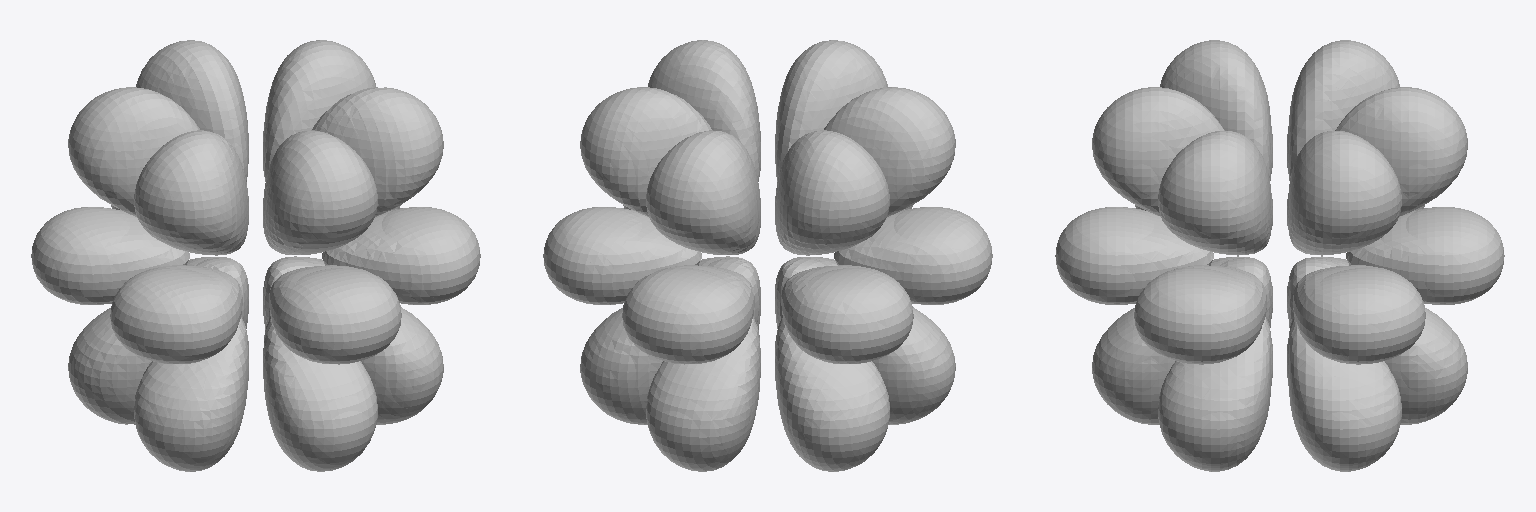
File: orb_n=6_ l=5 _m=-3.obj
The picture shows the model from 3 angles: view 1: azimuth 30°, elevation 25°; view 2: azimuth 150°, elevation 25°; view 3: azimuth 270°, elevation 25°; orthographic projection.
Parts seen in each view (by area): view 1: orb_n=6__l=5__m=-3; view 2: orb_n=6__l=5__m=-3; view 3: orb_n=6__l=5__m=-3.
Boxes of the visible parts, x1,y1,x2,y2 form: orb_n=6__l=5__m=-3: [31, 40, 480, 471]; orb_n=6__l=5__m=-3: [543, 40, 992, 471]; orb_n=6__l=5__m=-3: [1055, 40, 1504, 471].
Size of the model in its own units: 114 by 101 by 125.